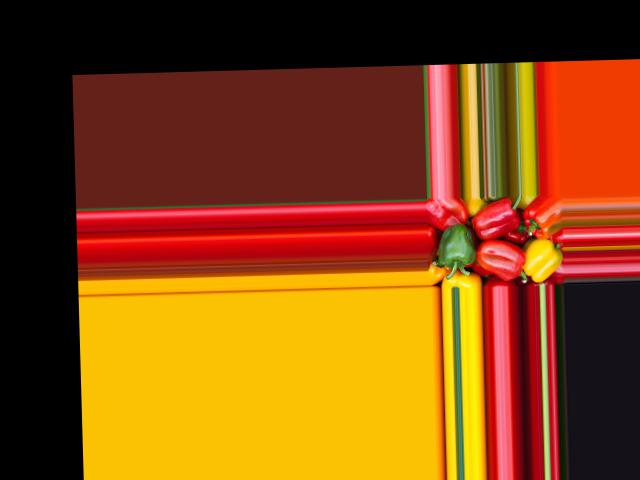bell_pepper: (520, 234, 563, 285)
